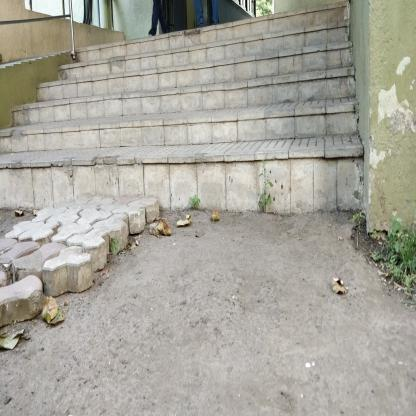stairs: (175, 44, 348, 232)
